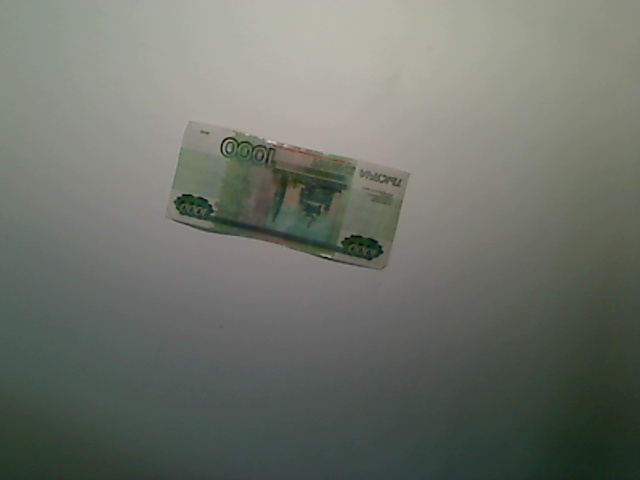banknotes: (163, 116, 414, 272)
